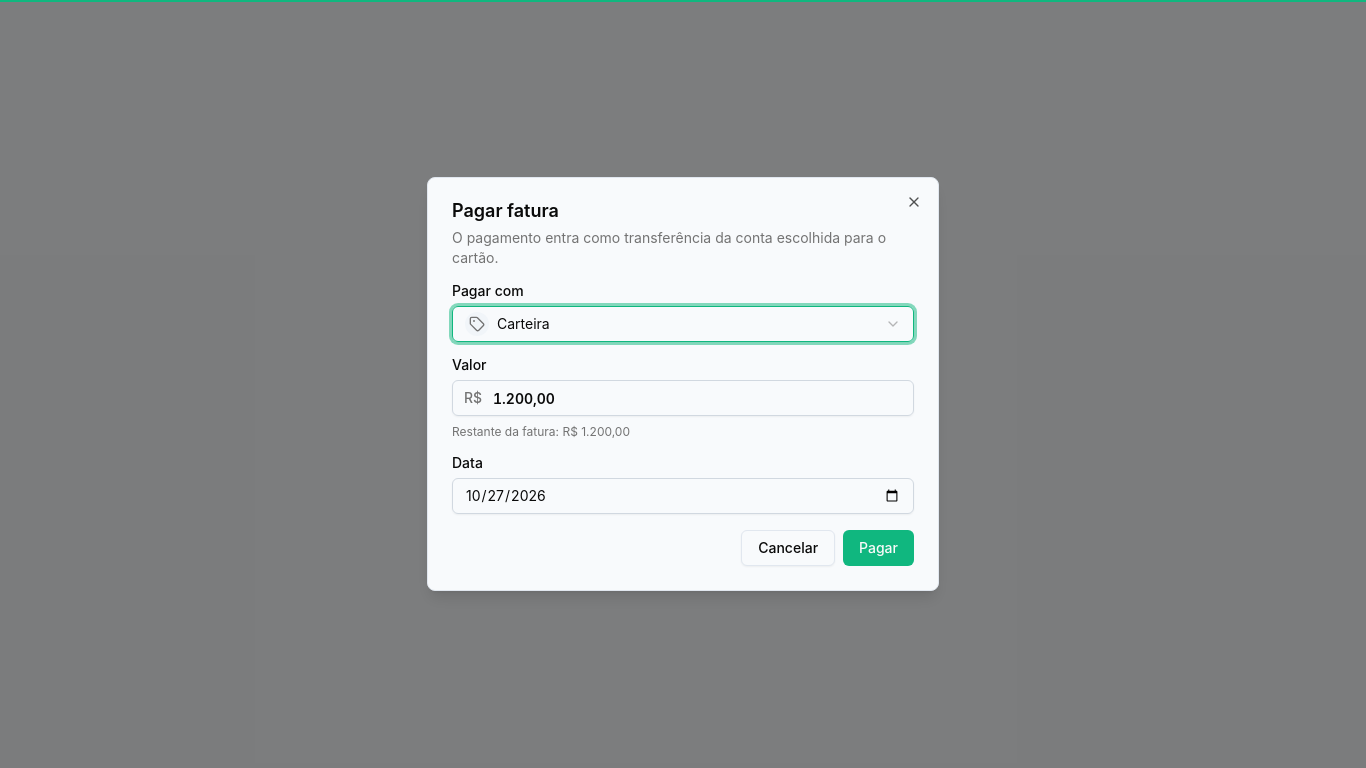
Test: PayStatementDialog › com uma conta pagável já usada antes, o padrão é ela, mesmo com outra alfabeticamente anterior
This screenshot has width=1366, height=768.
Step 1. Click the dropdown → {"x": 523, "y": 324}, box [452,306,914,342]
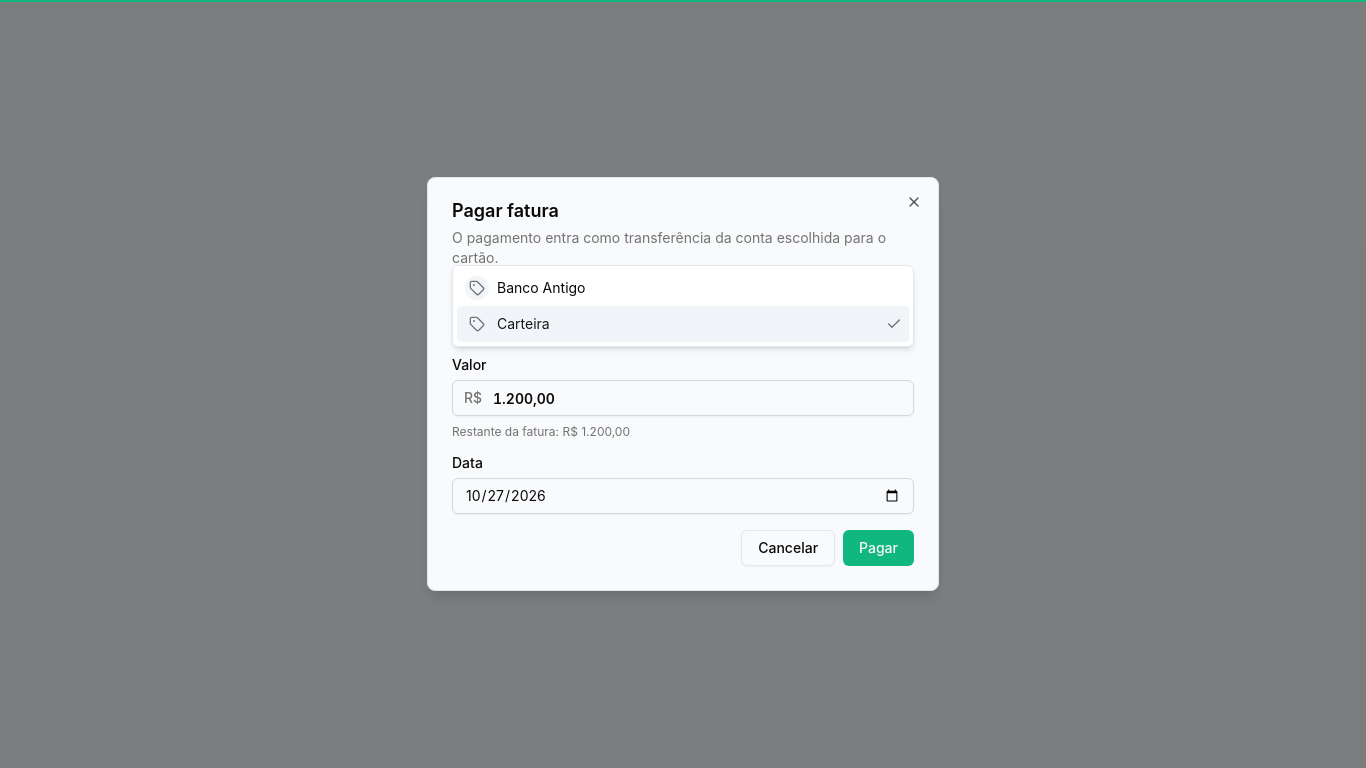
Now the options read "Banco Antigo", "Carteira", in this order, box [465,276,586,300]; [457,306,909,342]
